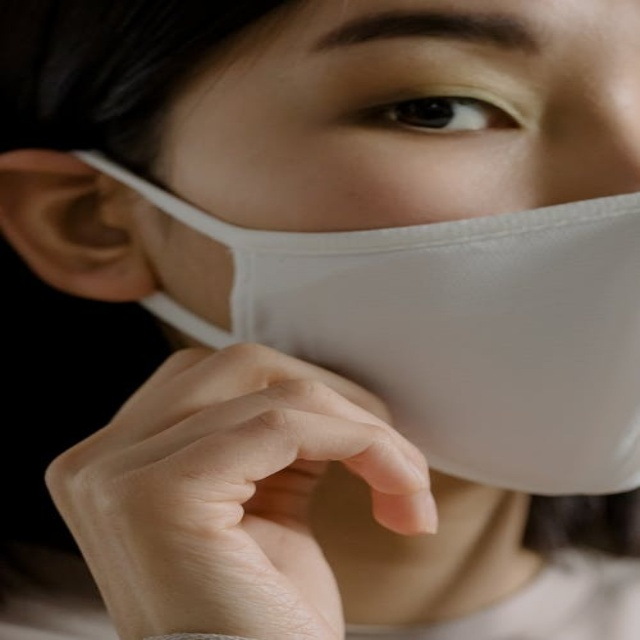Mascara: (67, 146, 640, 496)
Sin_gafas: (241, 17, 616, 164)
Sin_guantes: (43, 333, 436, 640)
